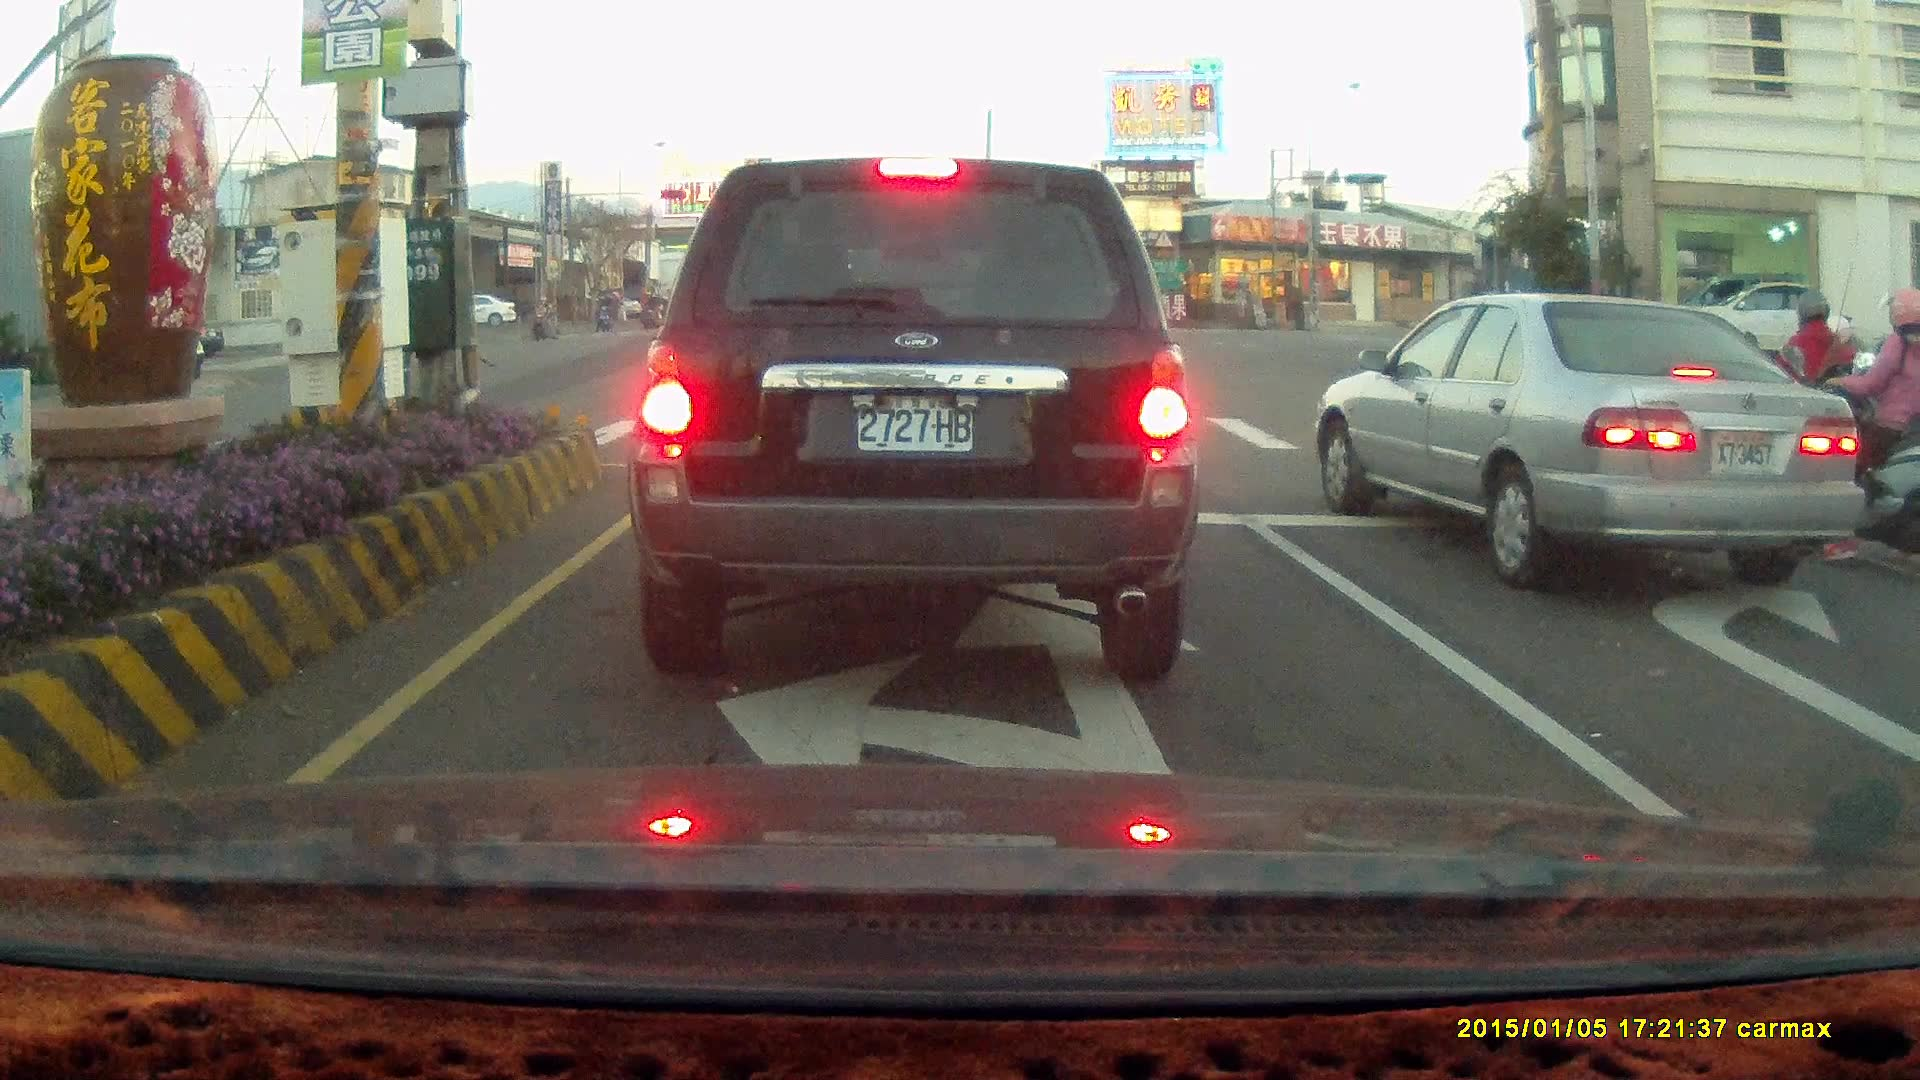rider: (1767, 280, 1918, 570), (1720, 287, 1860, 543), (528, 289, 562, 338), (593, 293, 614, 334), (643, 291, 664, 328)
vehicle: (624, 153, 1200, 681), (1311, 291, 1862, 589), (1315, 293, 1860, 579), (1653, 275, 1866, 370), (1668, 275, 1823, 373), (1896, 493, 1920, 836)
